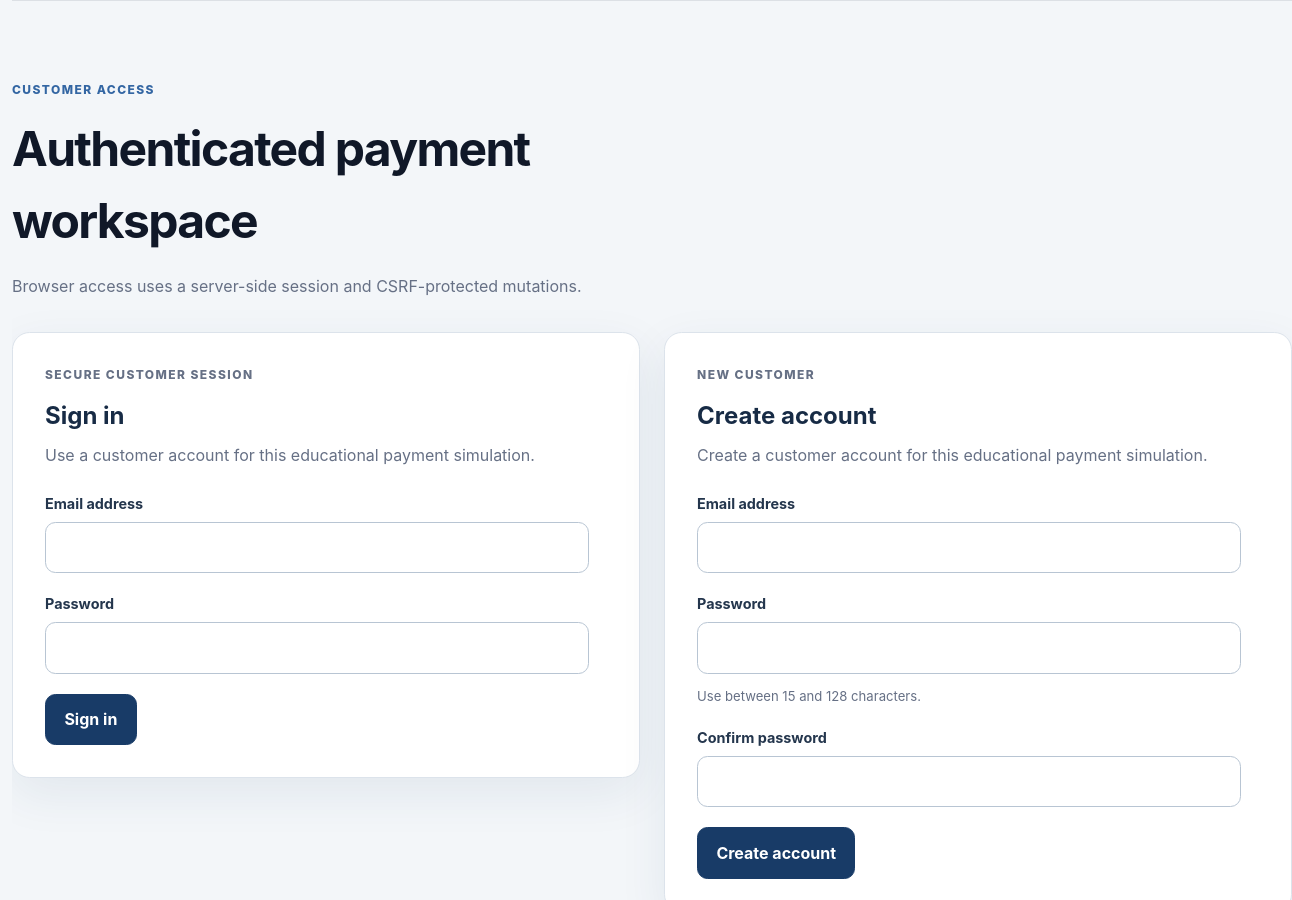
Scenario: SessionBoundary › signs in with the CSRF header and exact credentials
The width and height of the screenshot is (1292, 900).
Type "sam.customer@example.com" into the field labelled "Email address" below "Secure customer session".
click(317, 547); type("sam.customer@example.com")  # box [45,522,589,573]
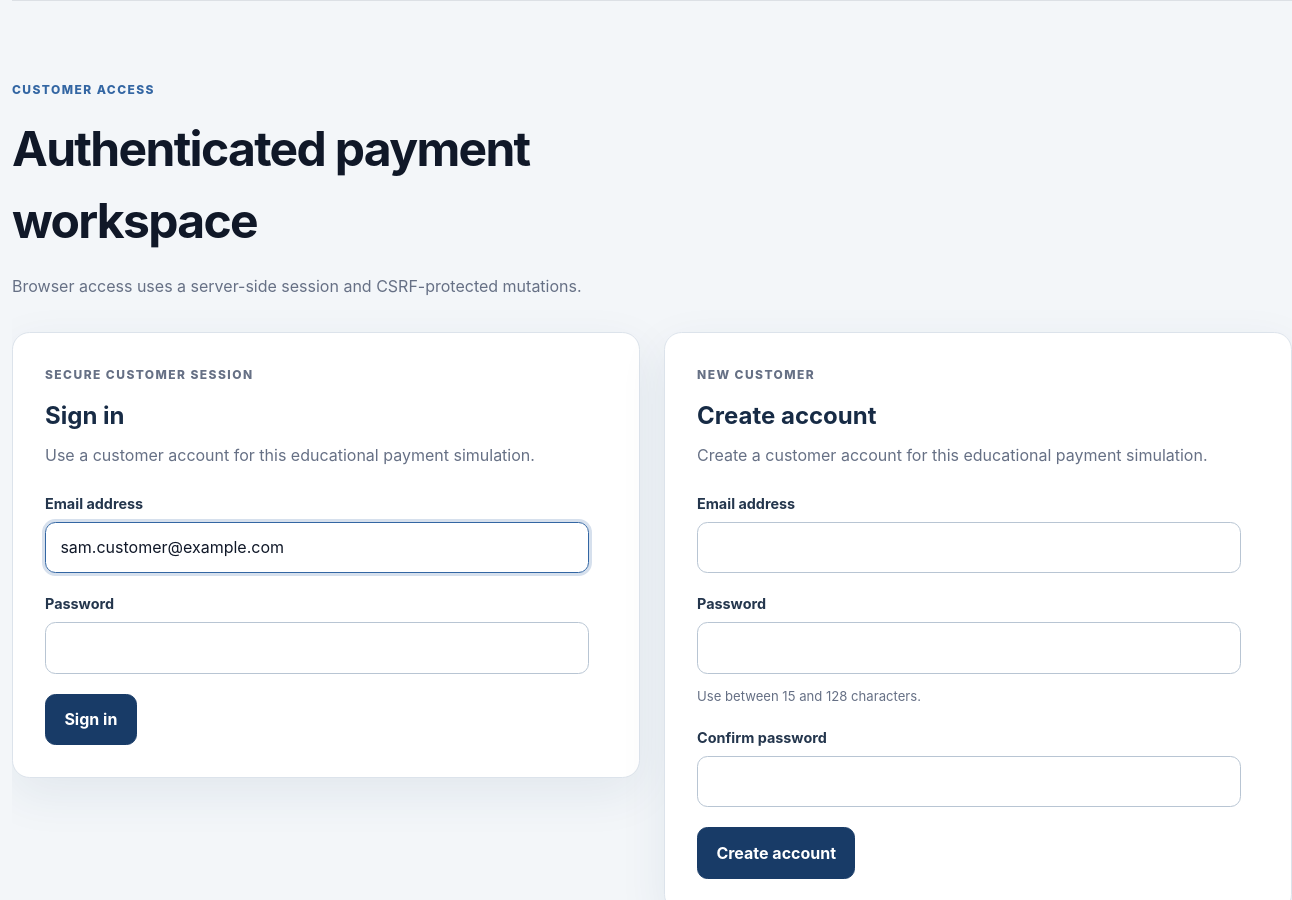
Type "this is a secure customer passphrase" into the password field labelled "Password" below "Secure customer session".
click(317, 648); type("this is a secure customer passphrase")  # box [45,622,589,674]
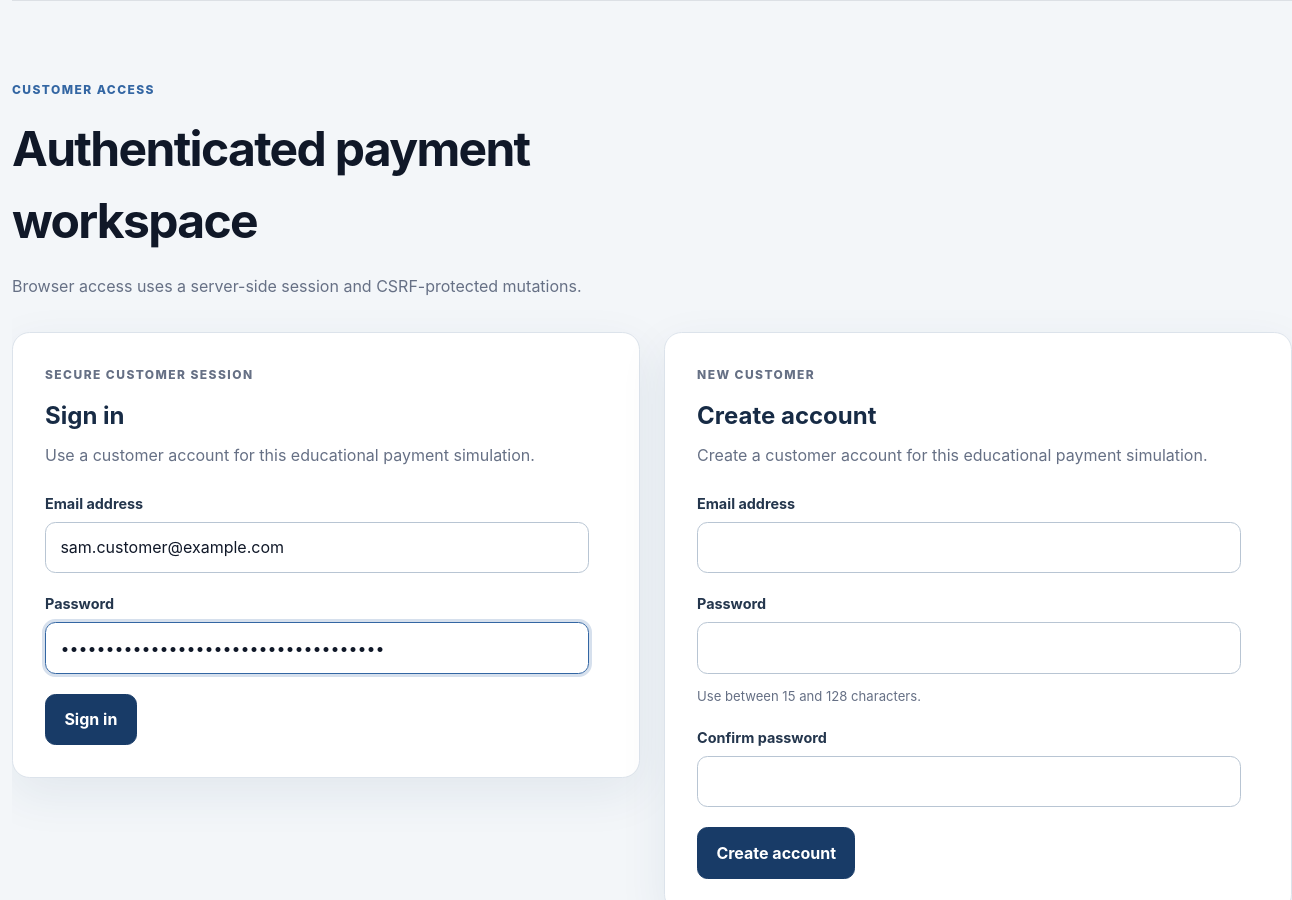
Click the button "Sign in".
click(91, 719)  # box [45,694,137,745]
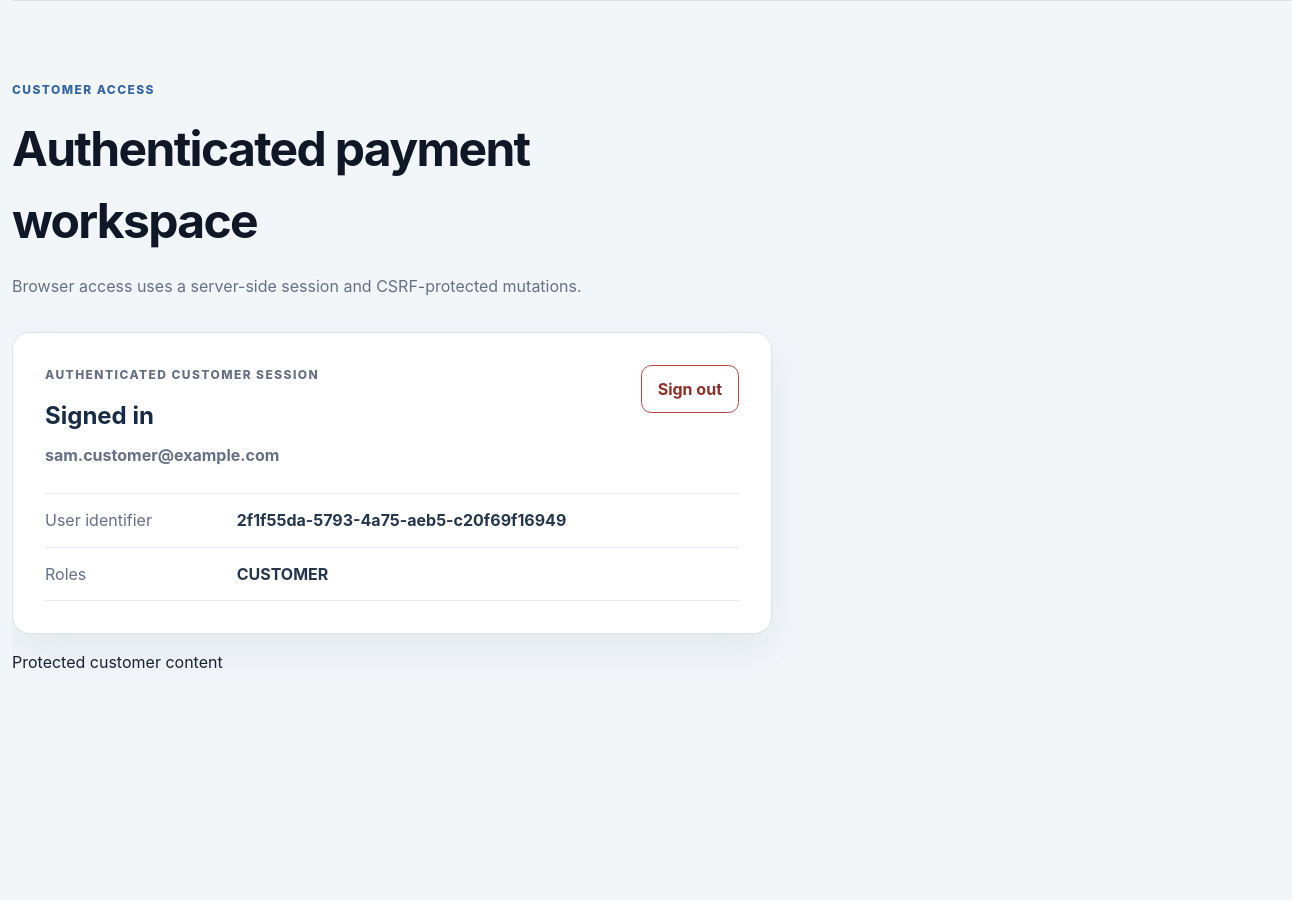
Now the text "sam.customer@example.com" is shown, box [45,443,319,469]
